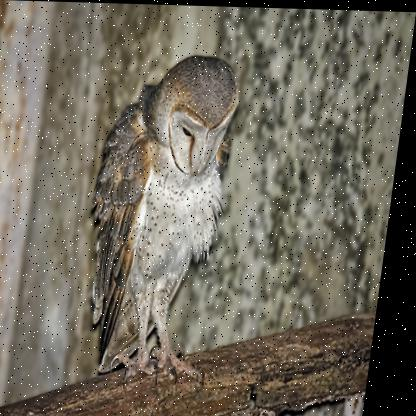Burung: (76, 51, 245, 381)
